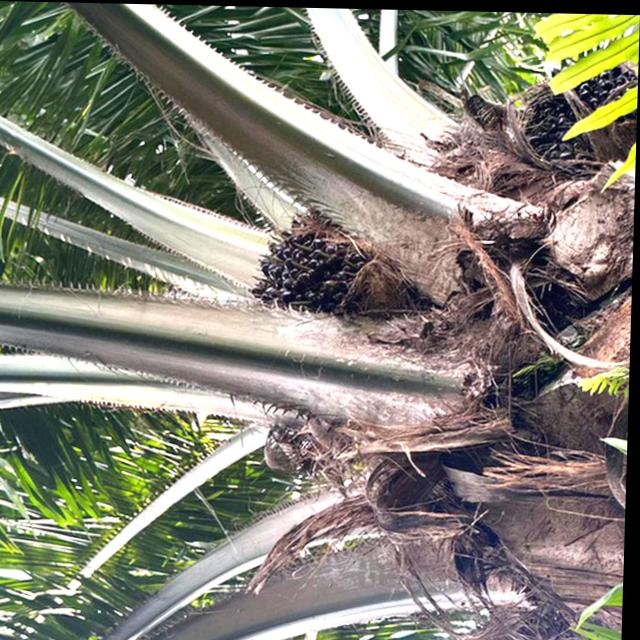unripe: (245, 198, 393, 348)
